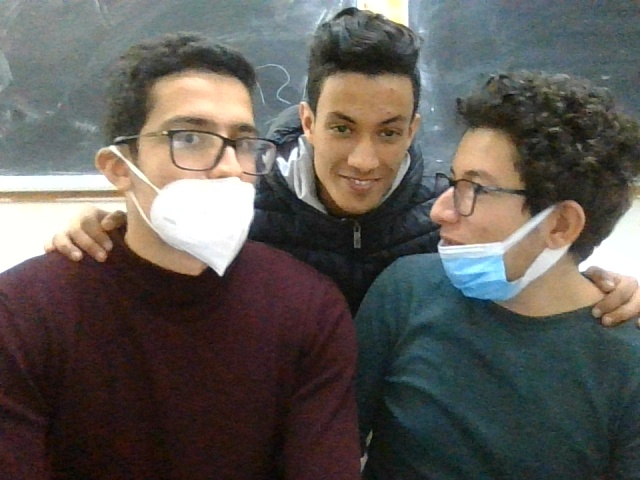mask_weared_incorrect: (107, 32, 282, 278), (438, 69, 620, 305)
without_mask: (311, 18, 424, 211)
